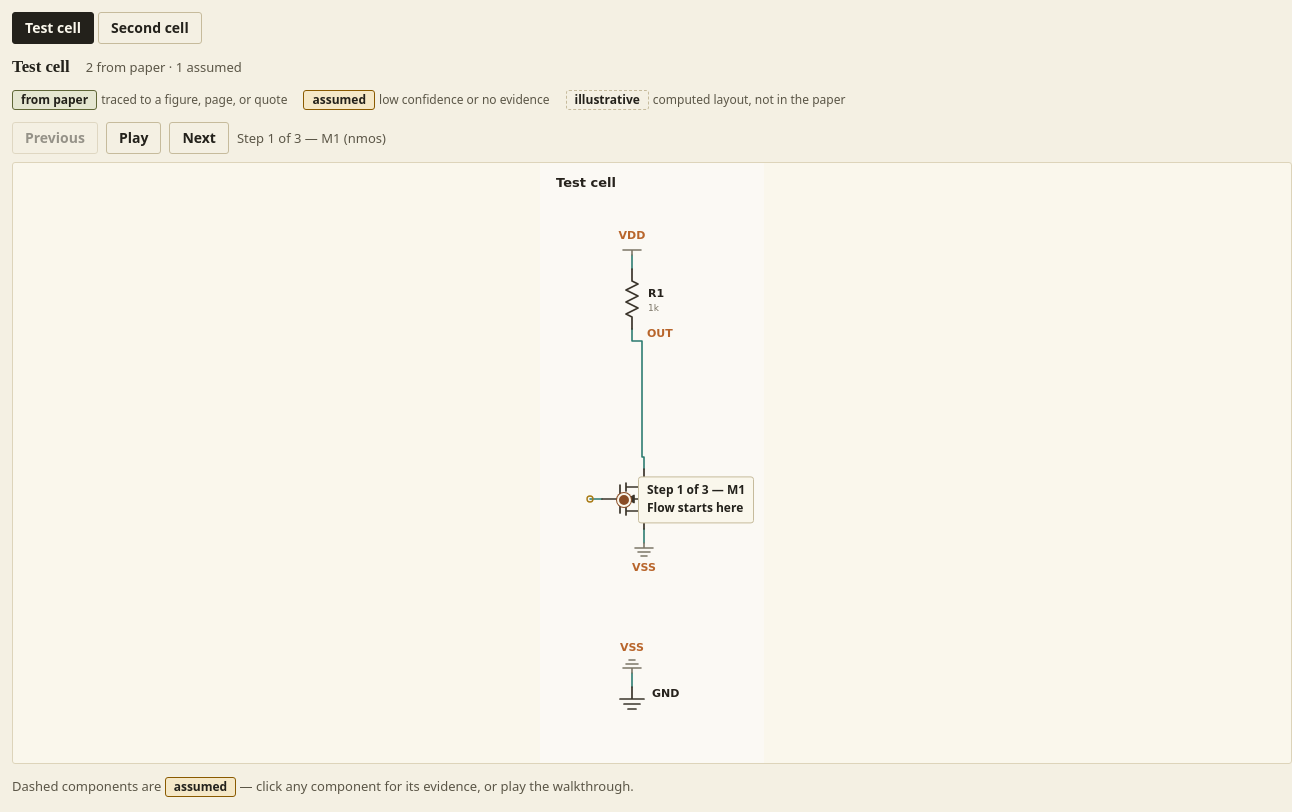
SchematicDiagramView › switches between circuits with the picker
The width and height of the screenshot is (1292, 812).
Check: the heading "Test cell" is shown, box [12,56,70,78]
Step 1. Click the tab "Second cell" → (150, 28), box [98,12,202,44]
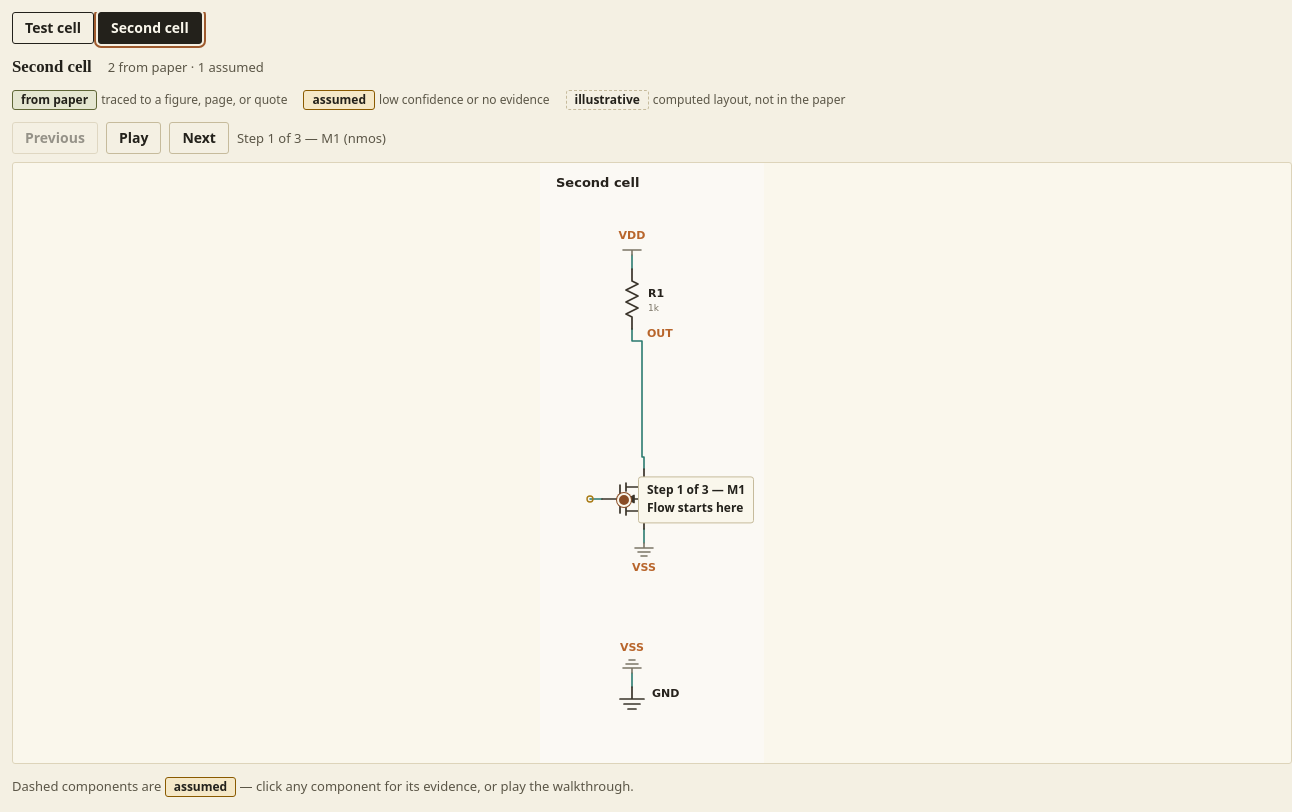
Check: the heading "Second cell" is shown, box [12,56,92,78]
